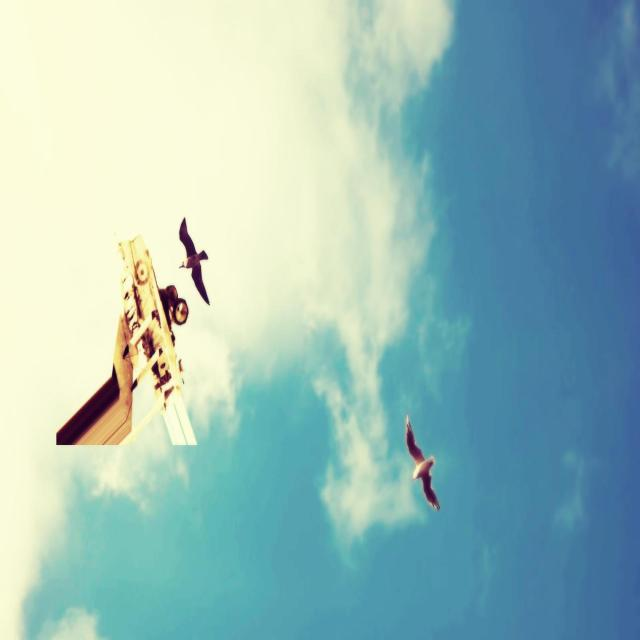airplane: (56, 232, 198, 447)
